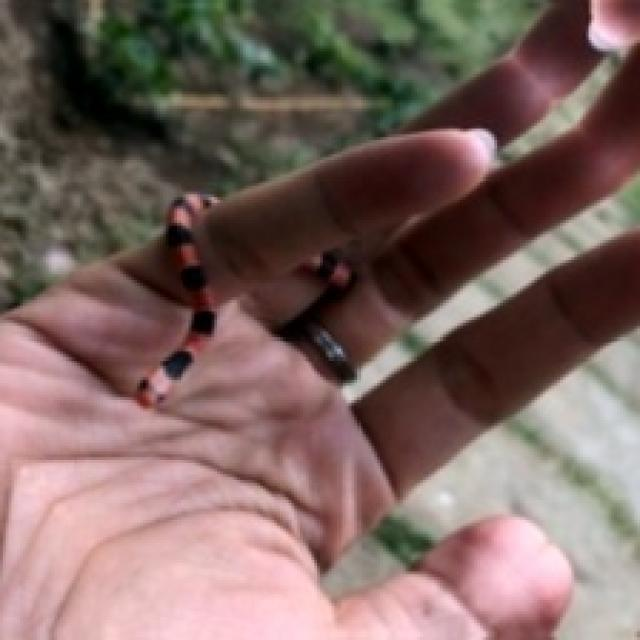barredcoral snake: (134, 191, 217, 406), (302, 249, 356, 291)
